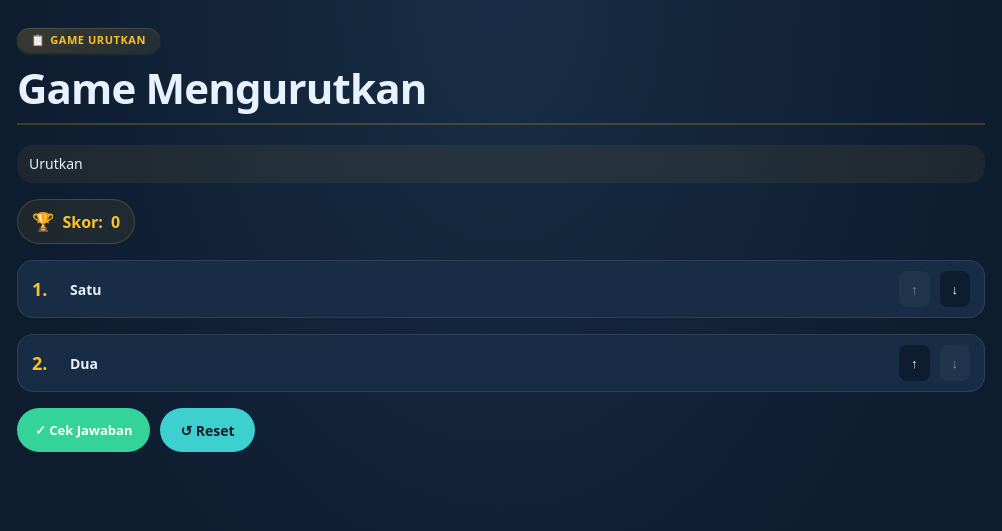
it: PREMIUM-STYLE-P2 PATCH A — Sequencing Lock › 10. sequencing correct → up/down buttons disabled (locked)
Expected: the button with test id "sequence-up-s2" is enabled, [899,345,930,381]
Check answer (correct — already in order)
Click the button with test id "sequence-check": [84, 430] box [17,408,150,452]
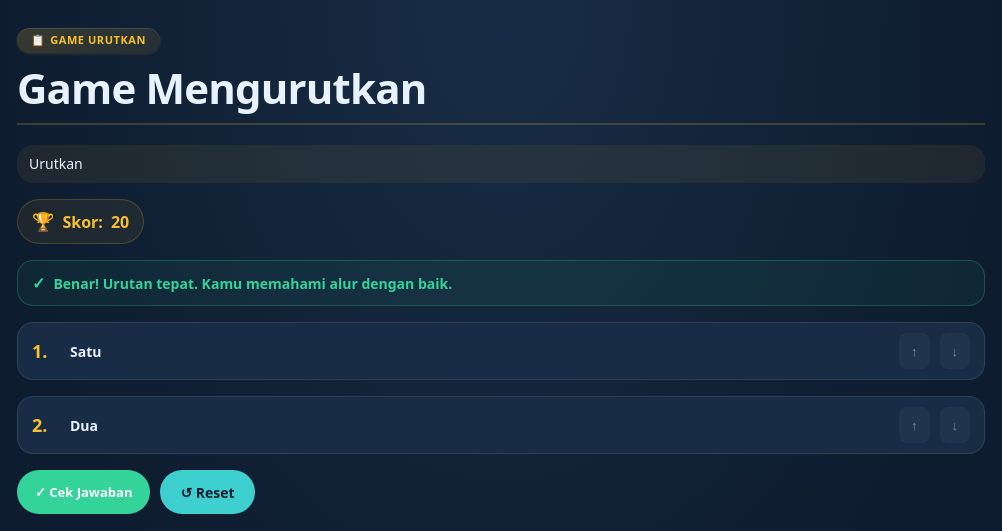
Expected: the button with test id "sequence-down-s1" is disabled, [940,333,970,369]
Expected: the button with test id "sequence-up-s2" is disabled, [899,407,930,443]
